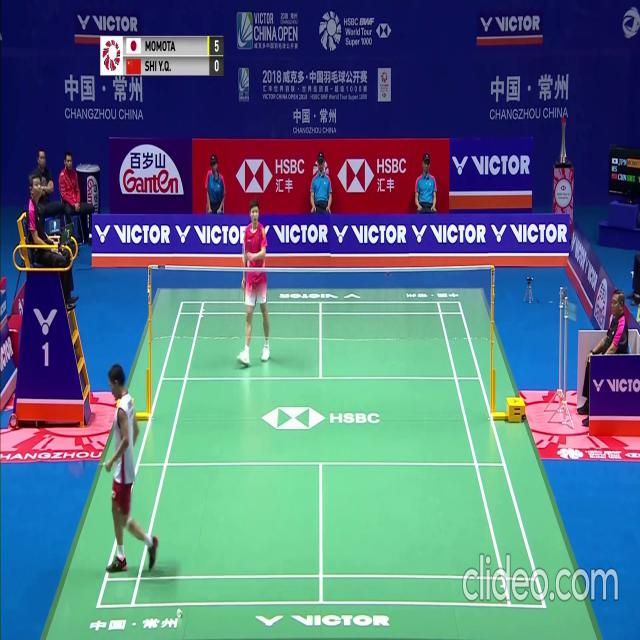Shuttlecock: (178, 610, 183, 618)
